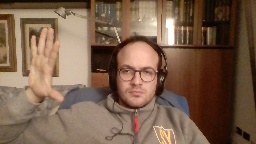Mano_aperta: (27, 26, 65, 104)
